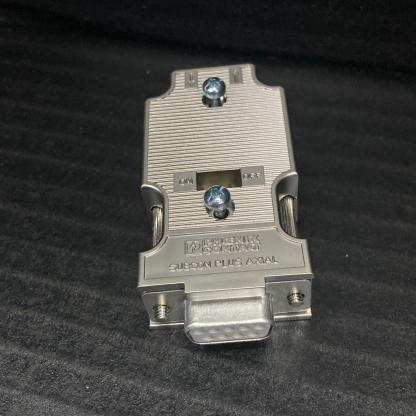SP0000010: (77, 21, 365, 377)
